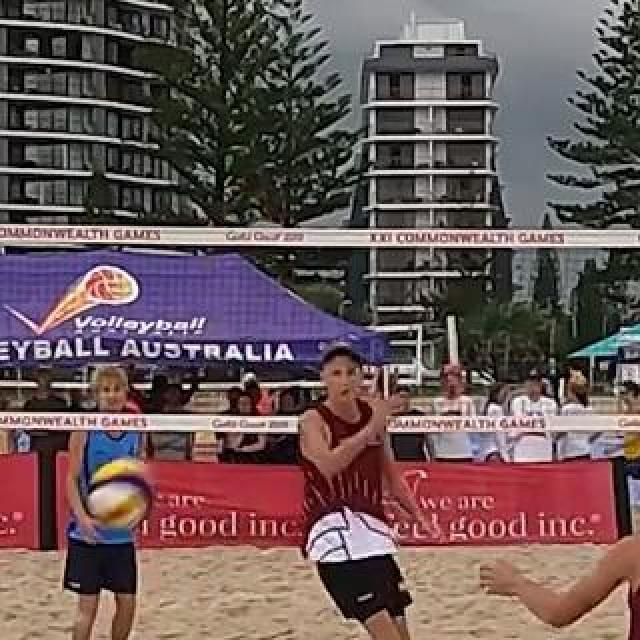volleyball: (85, 458, 155, 530)
